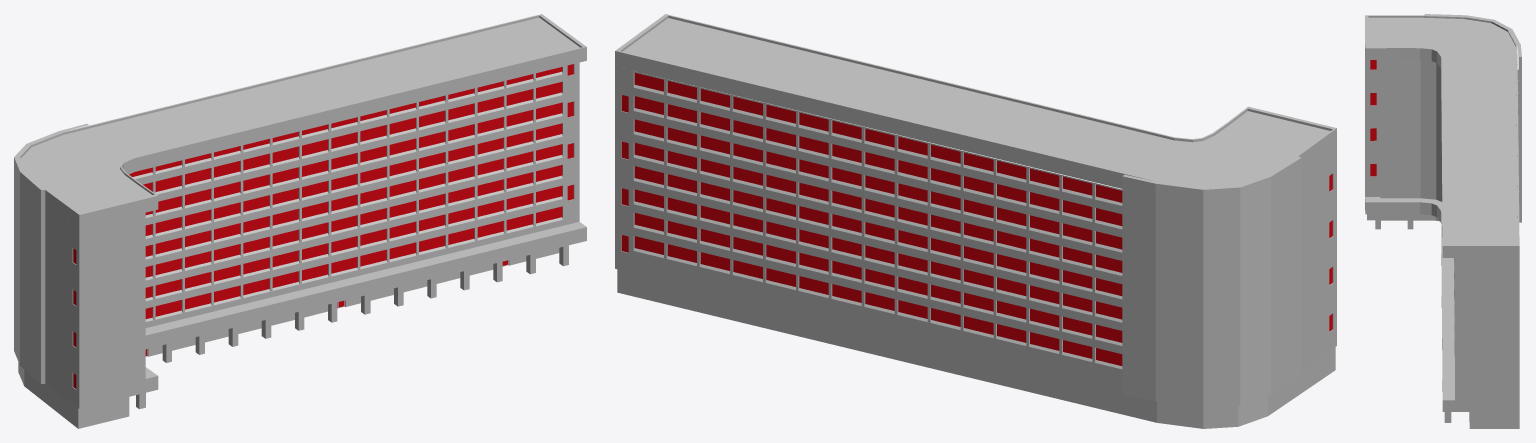
The model's file is SM_infrastructure_buildings_02.gltf.
3 renders of one model, left to right at view 1: azimuth 30°, elevation 25°; view 2: azimuth 150°, elevation 25°; view 3: azimuth 270°, elevation 25°, orthographic. The views are drawn at different scales.
Parts seen in each view (by area): view 1: infrastructure_buildings_02; view 2: infrastructure_buildings_02; view 3: infrastructure_buildings_02.
Boxes of the visible parts, box(x1,y1,x2,y2) form: infrastructure_buildings_02: box(14, 14, 586, 428); infrastructure_buildings_02: box(615, 14, 1336, 428); infrastructure_buildings_02: box(1365, 14, 1521, 428).
Bounding box in the file's own units: 84 × 31 × 24.
